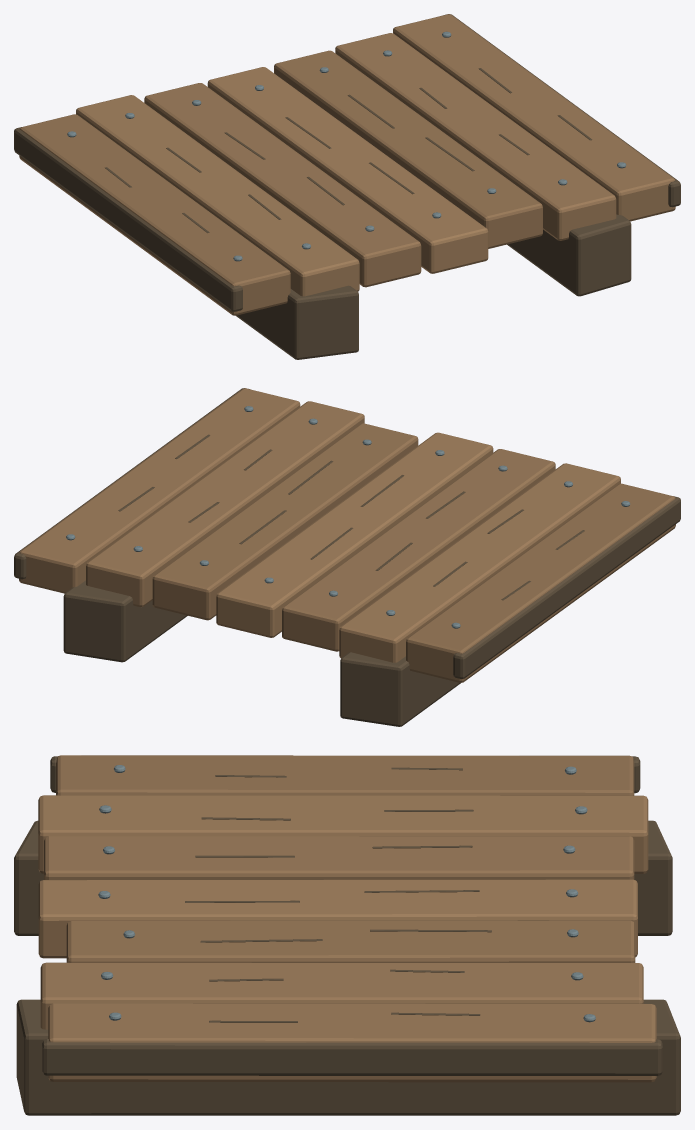
The model's file is deck-intact.glb.
3 views of the same model, one above another, from view 1: azimuth 30°, elevation 25°; view 2: azimuth 150°, elevation 25°; view 3: azimuth 270°, elevation 25° (orthographic). The views are drawn at different scales.
Parts seen in each view (by area): view 1: GEO-deck-intact-378, GEO-deck-intact-972, GEO-deck-intact-1148; view 2: GEO-deck-intact-378, GEO-deck-intact-972, GEO-deck-intact-1148; view 3: GEO-deck-intact-378, GEO-deck-intact-972, GEO-deck-intact-1148.
Boxes of the visible parts, x1,y1,x2,y2 form: GEO-deck-intact-378: (19,14,675,315); GEO-deck-intact-972: (14,14,680,359); GEO-deck-intact-1148: (67,31,626,261); GEO-deck-intact-378: (19,388,675,682); GEO-deck-intact-972: (14,388,680,726); GEO-deck-intact-1148: (66,406,630,628); GEO-deck-intact-378: (38,755,656,1082); GEO-deck-intact-972: (14,756,680,1115); GEO-deck-intact-1148: (98,765,595,1022).
Bounding box in the file's own units: 2.28 × 0.4388 × 2.21.
